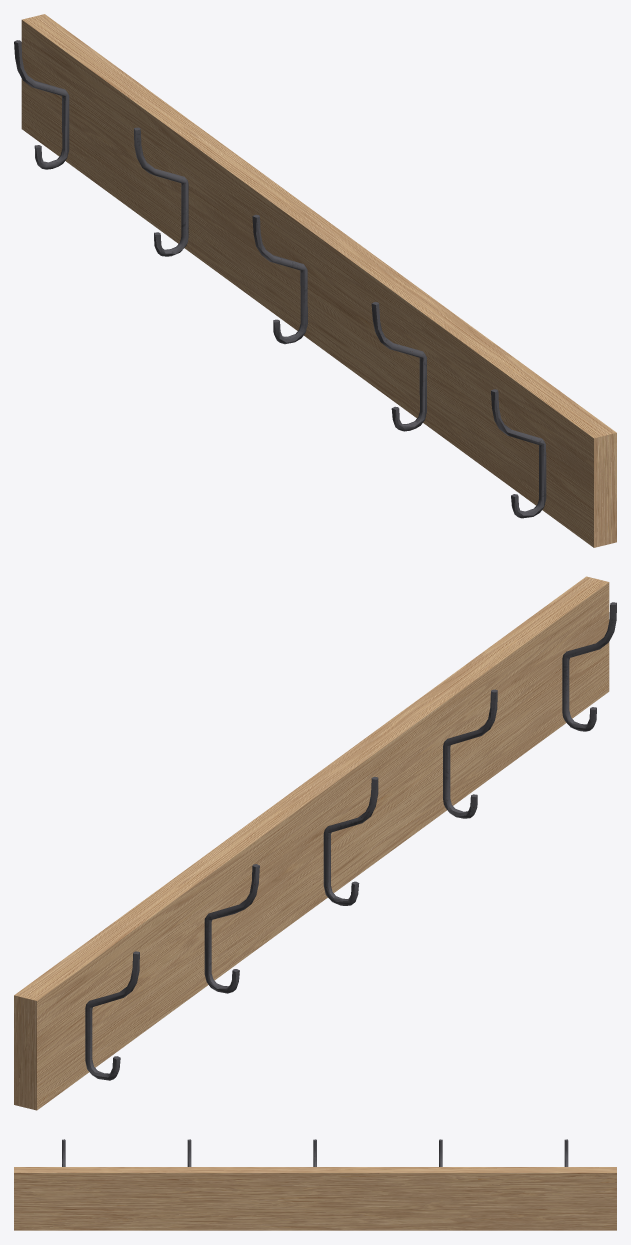
Rendered from CoatRack.fbx.
3 views of the same model, one above another, from view 1: azimuth 30°, elevation 25°; view 2: azimuth 150°, elevation 25°; view 3: azimuth 270°, elevation 25° (orthographic). The views are drawn at different scales.
Parts seen in each view (by area): view 1: CoatRack; view 2: CoatRack; view 3: CoatRack.
Boxes of the visible parts, x1,y1,x2,y2 form: CoatRack: (14,14,616,547); CoatRack: (14,576,616,1110); CoatRack: (14,1139,616,1230).
Bounding box in the file's own units: 7.46 × 12.39 × 95.03.
